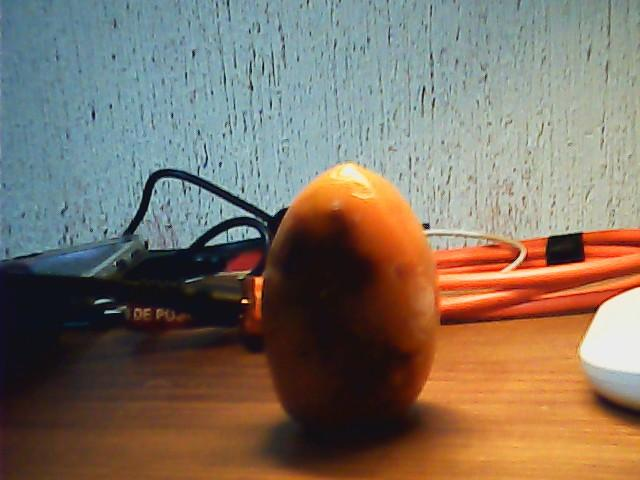defectuoso: (265, 159, 437, 430)
